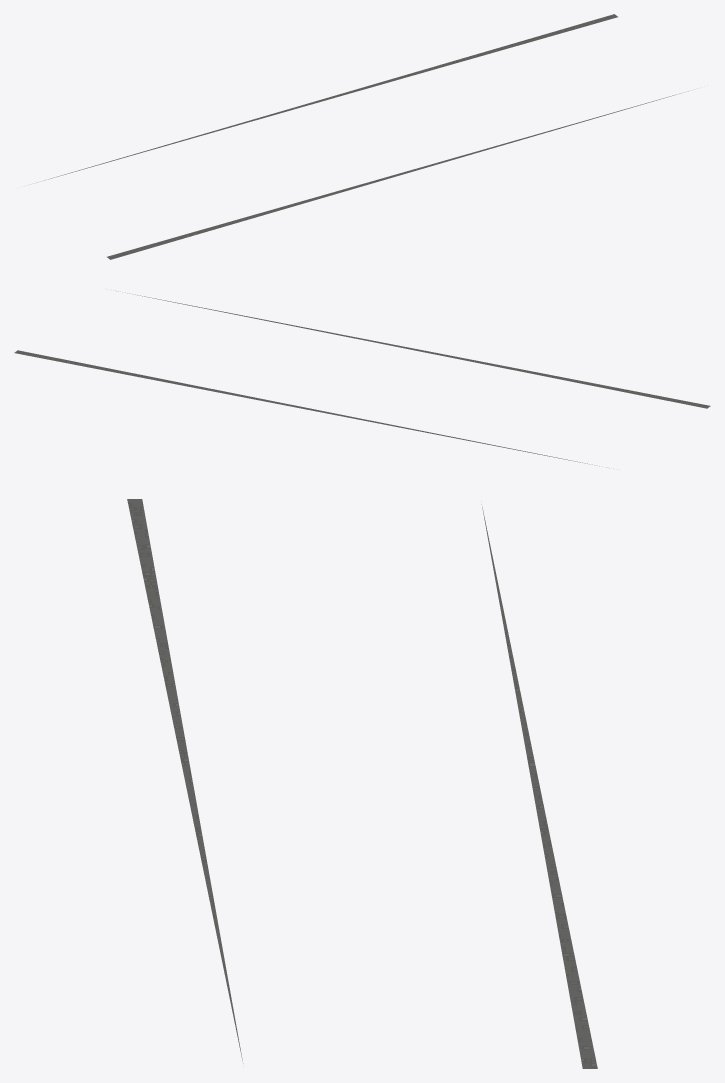
Rendered from kd_stage_136282_2_2.glb.
The picture shows the model from 3 angles, top to bottom: view 1: azimuth 30°, elevation 25°; view 2: azimuth 150°, elevation 25°; view 3: azimuth 270°, elevation 25°; orthographic projection. The views are drawn at different scales.
Visible parts, largest first — view 1: kd_stage_136282_2_2; view 2: kd_stage_136282_2_2; view 3: kd_stage_136282_2_2.
Part boxes in pixels (<box>): kd_stage_136282_2_2: <box>36,14,688,259</box>; kd_stage_136282_2_2: <box>14,290,710,468</box>; kd_stage_136282_2_2: <box>127,499,597,1068</box>.
Bounding box in the file's own units: 26.48 × 0.0988 × 9.32.
Materials: 1 (1 with a texture image).
